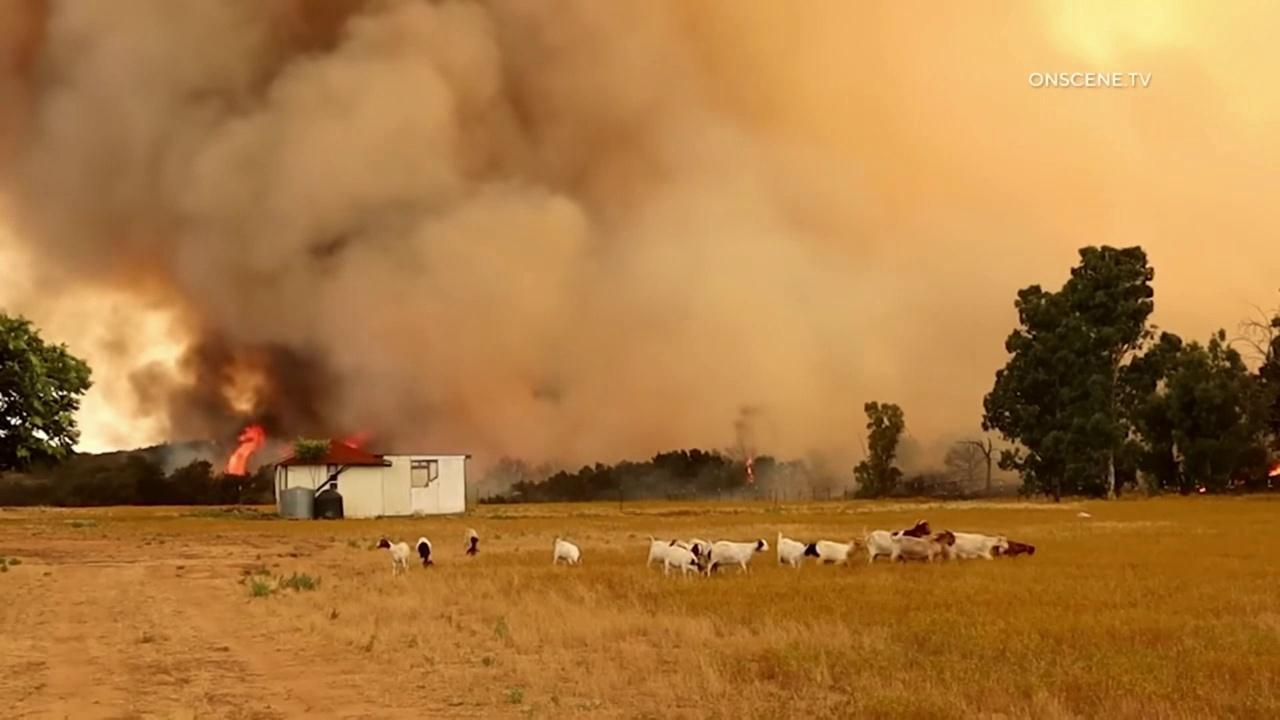fire: (227, 424, 265, 476), (278, 442, 295, 458), (345, 435, 363, 449), (745, 457, 754, 482), (1268, 465, 1280, 477), (1199, 487, 1206, 493)
smoke: (0, 0, 1280, 504)
